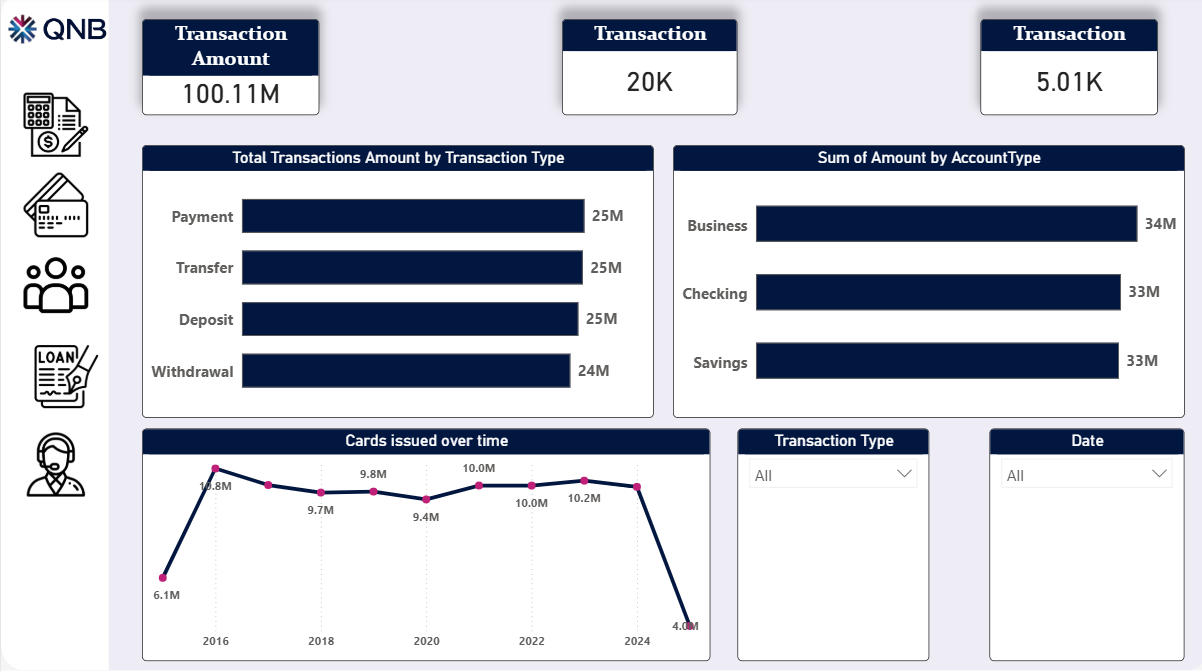

What the dashboard file says about the page in this screenshot:
{"tool":"powerbi","page":{"name":"Transactions","canvas":[1280,720],"ordinal":7},"visuals":[{"type":"image","box":[23.9,100.2,68.4,74.8],"z":0},{"type":"image","box":[23.9,175,68.4,95.4],"z":1000},{"type":"image","box":[23.9,270.4,68.4,74.8],"z":2000},{"type":"image","box":[23.9,448.6,68.4,98.6],"z":3000},{"type":"image","box":[0,0,117.7,77.9],"z":4000},{"type":"image","box":[35,359.5,68.4,89.1],"z":5000},{"type":"card","title":"Transaction","fields":{"Values":["_Measure.AvG Transaction"]},"box":[1038.7,25.4,187.7,101.8],"z":6000},{"type":"card","title":"Transaction","fields":{"Values":["_Measure.Total Transactions"]},"box":[594.9,25.4,186.1,101.8],"z":7000},{"type":"card","title":"Transaction Amount","fields":{"Values":["_Measure.Total Transactions Amount"]},"box":[149.5,25.4,187.7,101.8],"z":8000},{"type":"barChart","title":"Total Transactions Amount by Transaction Type","fields":{"Category":["Transactions.TransactionType"],"Y":["_Measure.Total Transactions Amount"]},"box":[149.5,159.1,542.4,289.5],"z":9000},{"type":"lineChart","title":"Cards issued over time","fields":{"Category":["Calender.Date.Variation.Date Hierarchy.Year"],"Y":["Sum(Transactions.Amount)"]},"box":[149.5,459.7,602.8,246.5],"z":10000},{"type":"barChart","fields":{"Category":["Accounts.AccountType"],"Y":["Sum(Transactions.Amount)"]},"box":[712.6,159.1,542.4,289.5],"z":11000},{"type":"slicer","title":"Date","fields":{"Values":["Transactions.TransactionDate"]},"box":[1048.2,459.7,206.8,246.5],"z":12000},{"type":"slicer","title":"Transaction Type","fields":{"Values":["Transactions.TransactionType"]},"box":[781,459.7,203.6,246.5],"z":13000}]}

Visuals, with their boxes on the page's 1280x720 design canvas (x1, y1, x2, y2). These are canvas units, not pixel positions in the 1202x672 screenshot, which may show the page scaled, cropped or inside an application window:
image: locate(24, 100, 92, 175)
image: locate(24, 175, 92, 270)
image: locate(24, 270, 92, 345)
image: locate(24, 449, 92, 547)
image: locate(0, 0, 118, 78)
image: locate(35, 360, 103, 449)
"Transaction" card: locate(1039, 25, 1226, 127)
"Transaction" card: locate(595, 25, 781, 127)
"Transaction Amount" card: locate(150, 25, 337, 127)
"Total Transactions Amount by Transaction Type" barChart: locate(150, 159, 692, 449)
"Cards issued over time" lineChart: locate(150, 460, 752, 706)
barChart - Accounts.AccountType x Sum(Transactions.Amount): locate(713, 159, 1255, 449)
"Date" slicer: locate(1048, 460, 1255, 706)
"Transaction Type" slicer: locate(781, 460, 985, 706)
